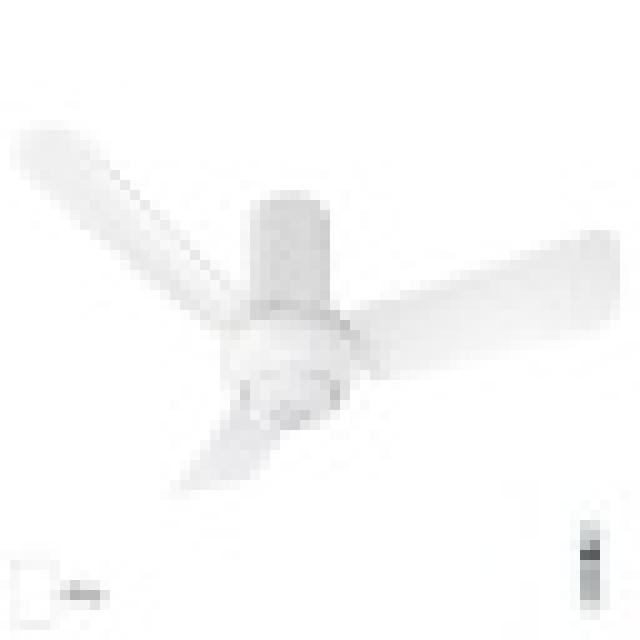Bulb: (12, 111, 639, 518)
